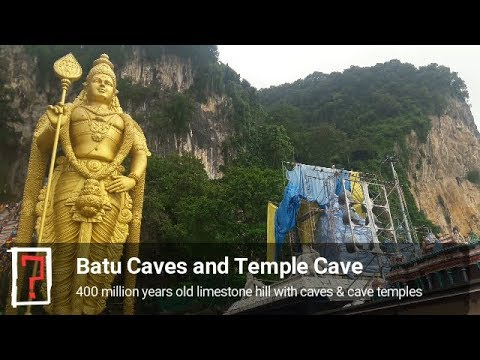Hindu Temple: (7, 45, 145, 315)
